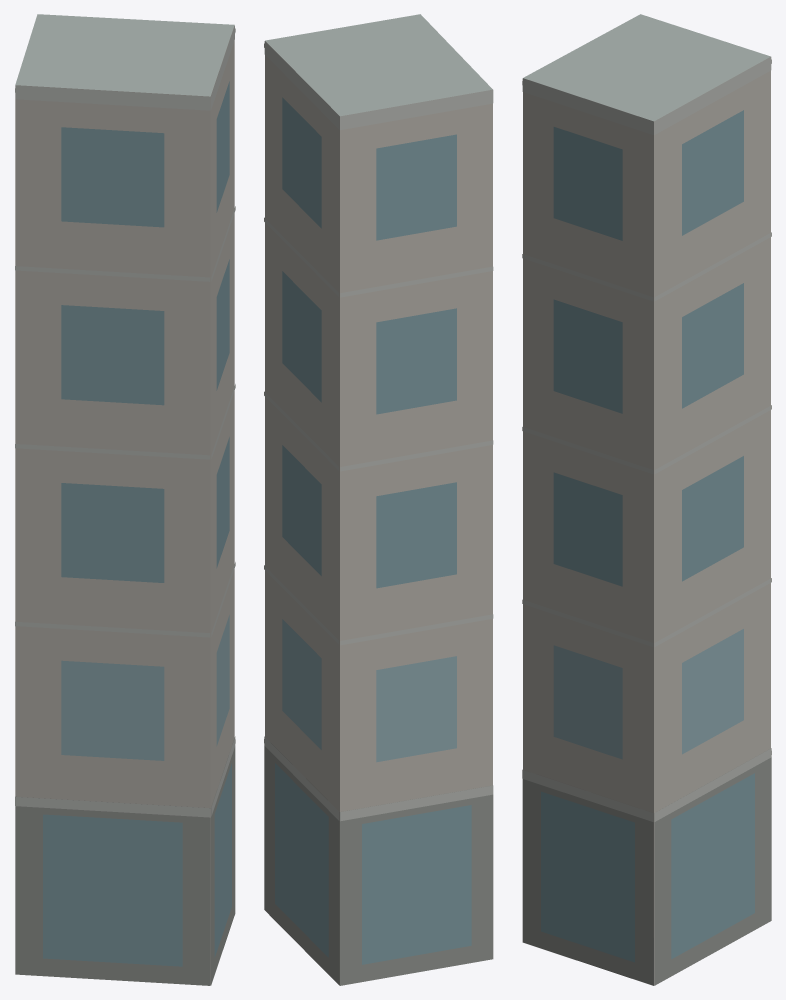
Rendered from survey-upis-33006601.glb.
3 views of the same model, side by side, from view 1: azimuth 30°, elevation 25°; view 2: azimuth 150°, elevation 25°; view 3: azimuth 270°, elevation 25° (orthographic). The views are drawn at different scales.
Parts seen in each view (by area): view 1: survey-upis-33006601.tmp; view 2: survey-upis-33006601.tmp; view 3: survey-upis-33006601.tmp.
Part boxes in pixels (x1,y1,x2,y2): survey-upis-33006601.tmp: (15, 14, 235, 985); survey-upis-33006601.tmp: (264, 14, 493, 985); survey-upis-33006601.tmp: (522, 14, 771, 985).
Bounding box in the file's own units: 4.09 × 15.25 × 3.99.
